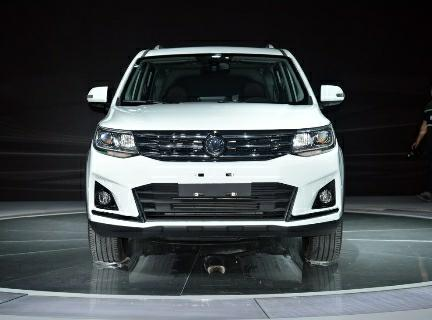car: (70, 39, 357, 279)
